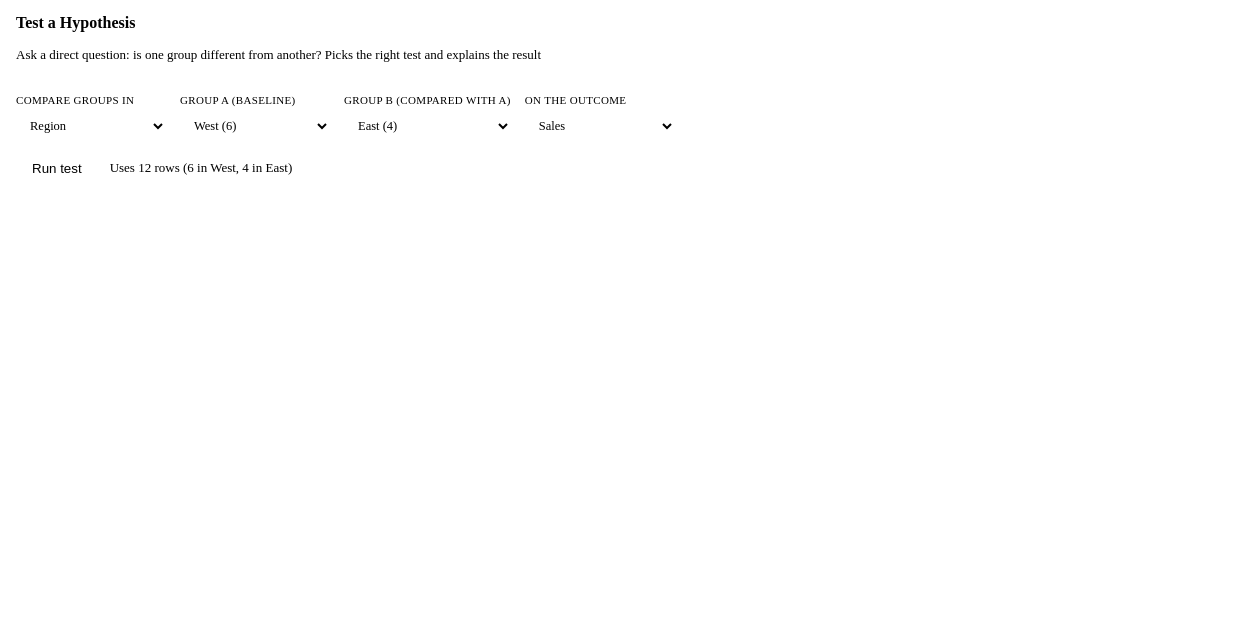
Test: HypothesisTestPanel › lists the group statistics and the caveats (collapsed until opened)
Click the button "Run test".
click(57, 168)  # box [16,152,98,184]
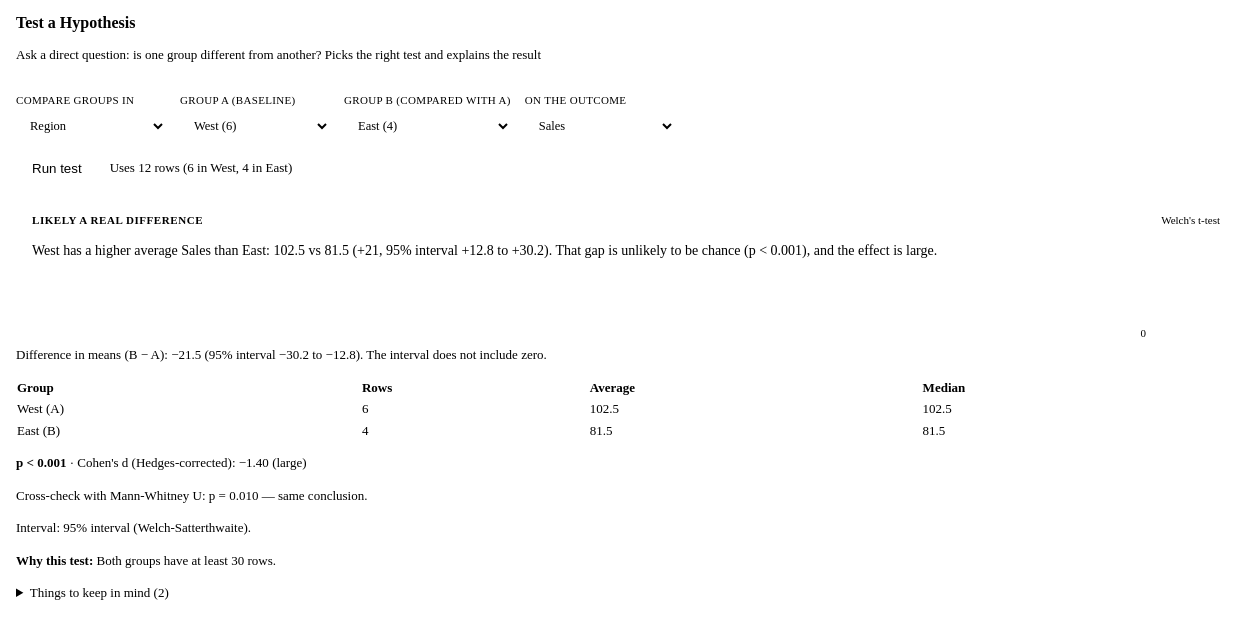
expect the text "Likely a real difference" is shown: met, box [32,214,203,226]
expect the column heading "West (A)" is shown: met, box [16,398,361,420]
expect the column heading "East (B)" is shown: met, box [16,420,361,441]
